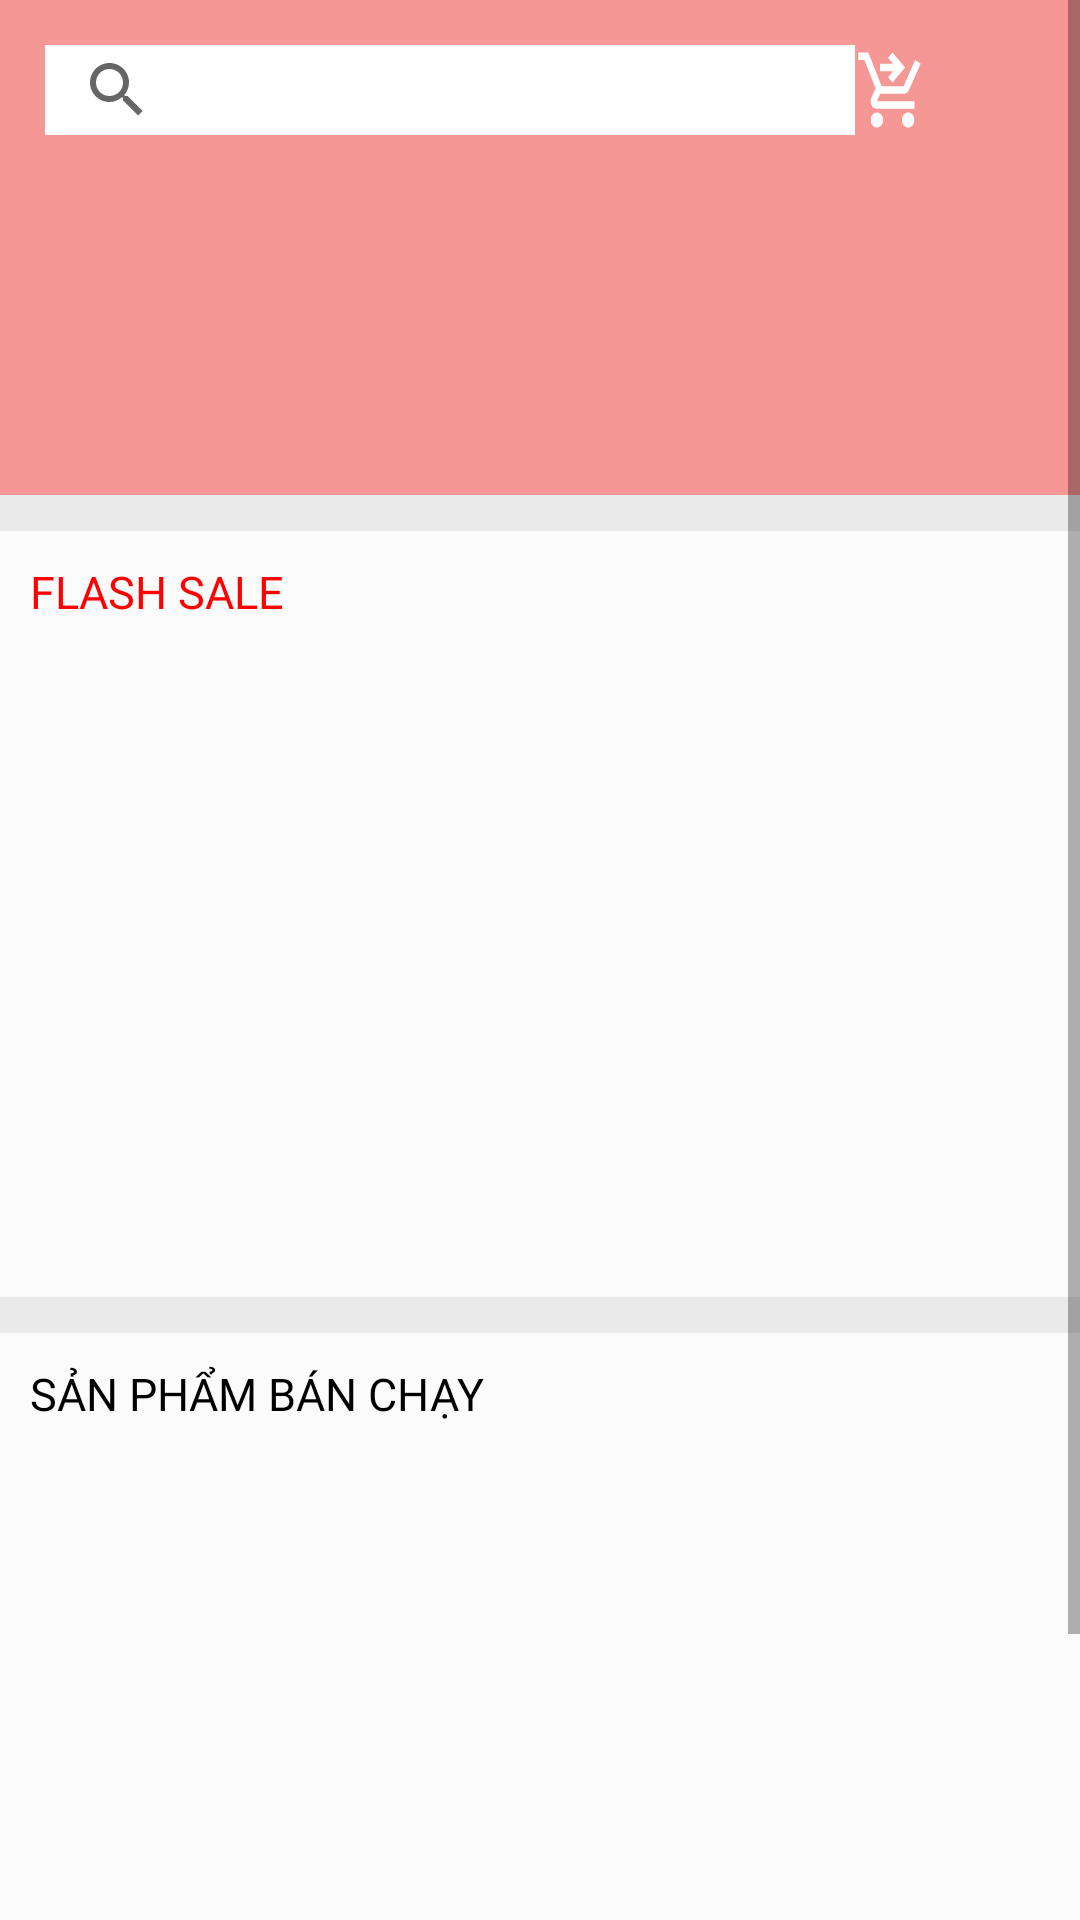

Locate icon controls on the screen. Image size 1080px×1920px, boxes as (x1, y1, x2, y2).
shopping cart checkout: (858, 52, 921, 128)
